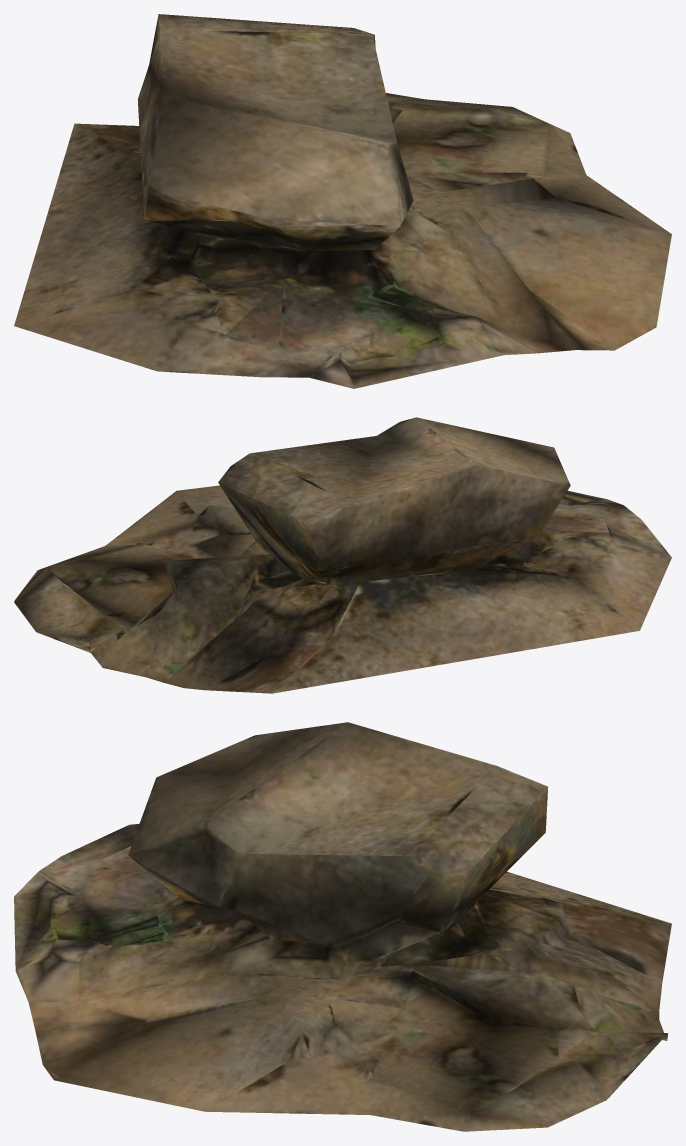
Rendered from coast_far.glb.
3 views of the same model, one above another, from view 1: azimuth 30°, elevation 25°; view 2: azimuth 150°, elevation 25°; view 3: azimuth 270°, elevation 25° (orthographic). The views are drawn at different scales.
Visible parts, largest first — view 1: coast_rocks_05; view 2: coast_rocks_05; view 3: coast_rocks_05.
Part boxes in pixels (x1=…): coast_rocks_05: x1=14, y1=14, x2=671, y2=388; coast_rocks_05: x1=14, y1=417, x2=671, y2=693; coast_rocks_05: x1=14, y1=722, x2=671, y2=1131.
Size of the model in its own units: 4.03 by 1.27 by 3.72.
Materials: 1 (1 with a texture image).
